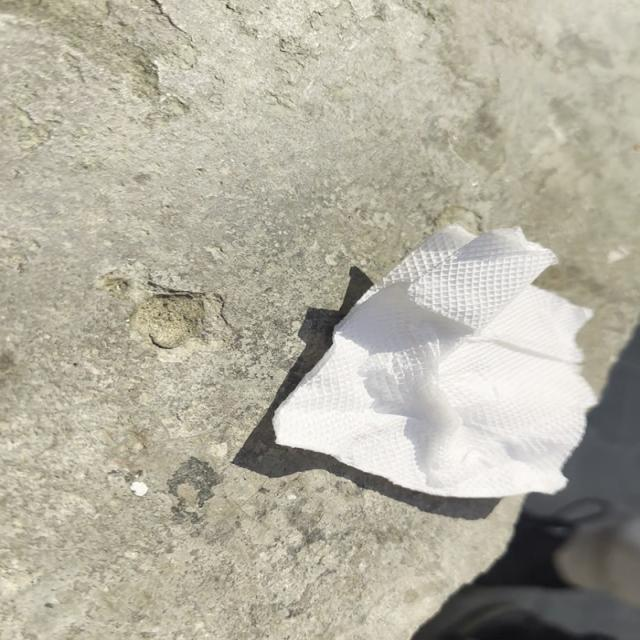tissue: (264, 213, 598, 498)
